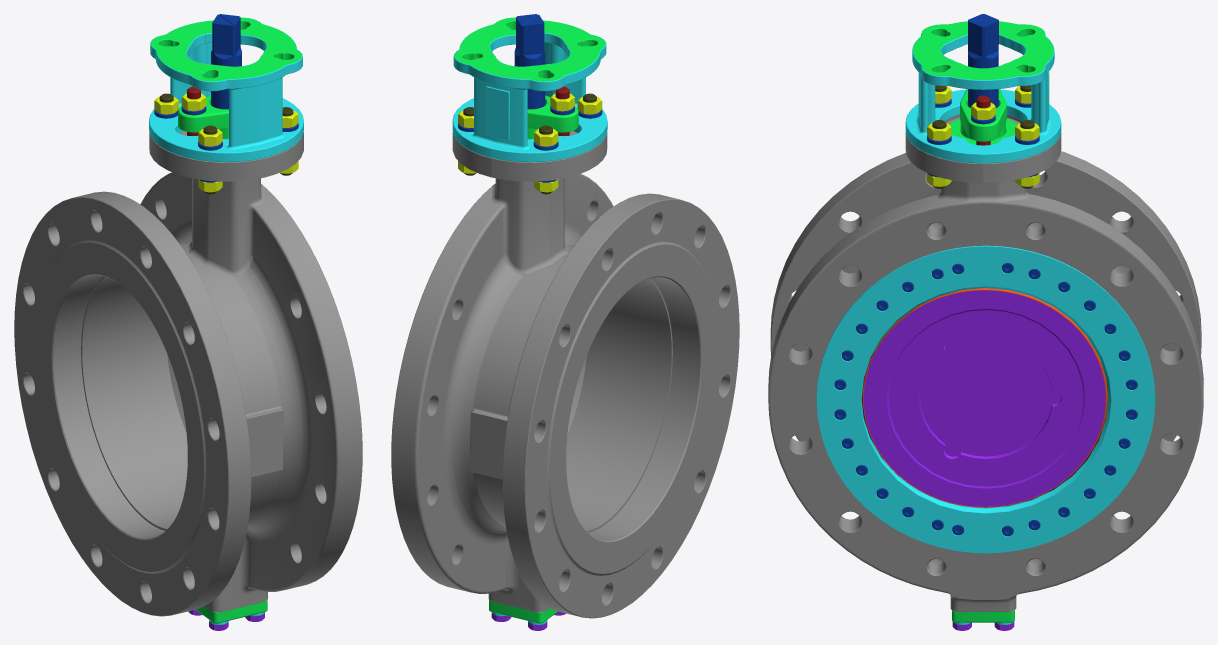
3 views of the same model, side by side, from view 1: azimuth 30°, elevation 25°; view 2: azimuth 150°, elevation 25°; view 3: azimuth 270°, elevation 25° (orthographic).
Parts seen in each view (by area): view 1: 01, 15, 01-q, 14, 15-q, 16, 30; view 2: 01, 01-q, 15, 15-q, 14, 16; view 3: 01, 01-q, 05-q, 05, 02-q, 02, 15, 15-q, 14, 06-q, 16, 06.
Part boxes in pixels (x1=…): 01: x1=14, y1=131, x2=362, y2=616; 15: x1=149, y1=24, x2=303, y2=162; 01-q: x1=140, y1=172, x2=191, y2=452; 14: x1=211, y1=14, x2=241, y2=109; 15-q: x1=192, y1=17, x2=292, y2=106; 16: x1=178, y1=95, x2=228, y2=139; 30: x1=195, y1=600, x2=267, y2=623; 01: x1=452, y1=130, x2=739, y2=618; 01-q: x1=391, y1=132, x2=513, y2=606; 15: x1=464, y1=17, x2=607, y2=162; 15-q: x1=452, y1=35, x2=508, y2=157; 14: x1=514, y1=14, x2=545, y2=109; 16: x1=527, y1=95, x2=578, y2=139; 01: x1=768, y1=114, x2=1201, y2=611; 01-q: x1=983, y1=131, x2=1203, y2=611; 05-q: x1=983, y1=290, x2=1105, y2=506; 05: x1=863, y1=290, x2=983, y2=506; 02-q: x1=983, y1=245, x2=1155, y2=553; 02: x1=816, y1=245, x2=983, y2=553; 15: x1=905, y1=21, x2=1060, y2=163; 15-q: x1=983, y1=50, x2=1061, y2=163; 14: x1=968, y1=14, x2=998, y2=107; 06-q: x1=983, y1=288, x2=1108, y2=507; 16: x1=960, y1=89, x2=1006, y2=141; 06: x1=862, y1=288, x2=983, y2=507.
Bounding box in the file's own units: 8.86 × 29.23 × 19.28.
